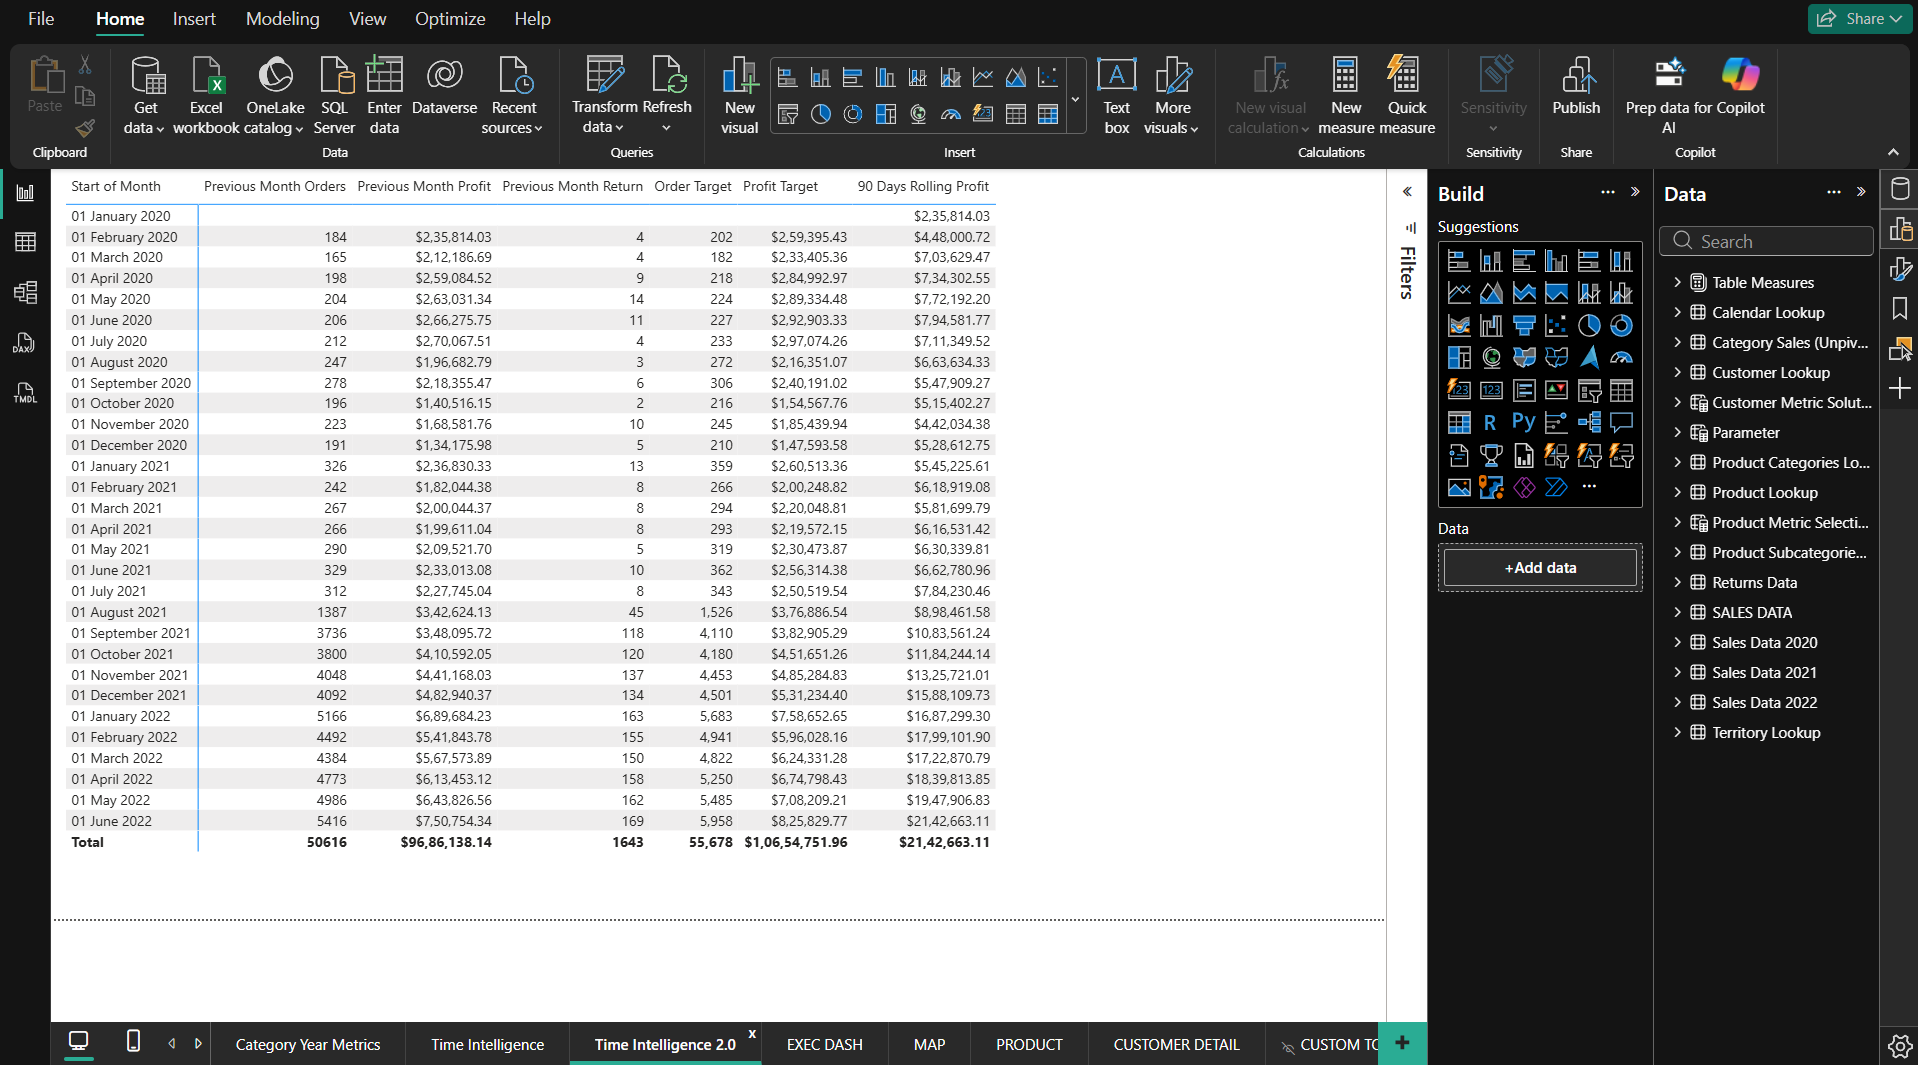

Layout of this report page (visuals, bound fields, positions):
{"tool":"powerbi","page":{"name":" Time Intelligence 2.0","canvas":[1280,720],"ordinal":2},"visuals":[{"type":"pivotTable","fields":{"Rows":["Calendar Lookup.Start of Month"],"Values":["Table Measures.Previous Month Orders","Table Measures.Previous Month Profit","Table Measures.Previous Month Return","Table Measures.Order Target","Table Measures.Profit Target","Table Measures.90 Days Rolling Profit"]},"box":[10.1,0,988.3,678.1],"z":0}]}

Visuals, with their boxes on the page's 1280x720 design canvas (x1, y1, x2, y2). These are canvas units, not pixel positions in the 1918x1065 screenshot, which may show the page scaled, cropped or inside an application window:
pivotTable - Calendar Lookup.Start of Month x Table Measures.Previous Month Orders: {"left": 10, "top": 0, "right": 998, "bottom": 678}
